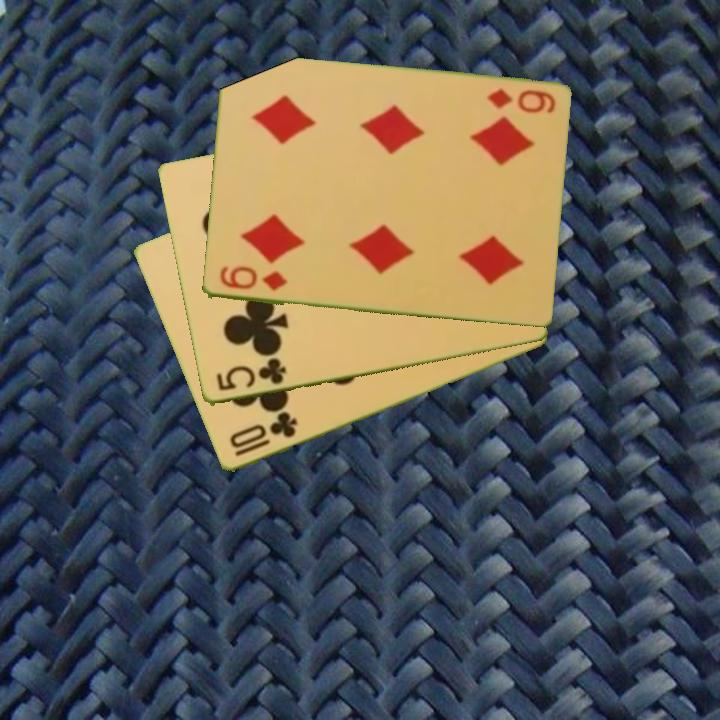10c: (225, 409, 300, 460)
5c: (212, 355, 289, 394)
6d: (483, 85, 558, 117), (216, 263, 290, 294)
